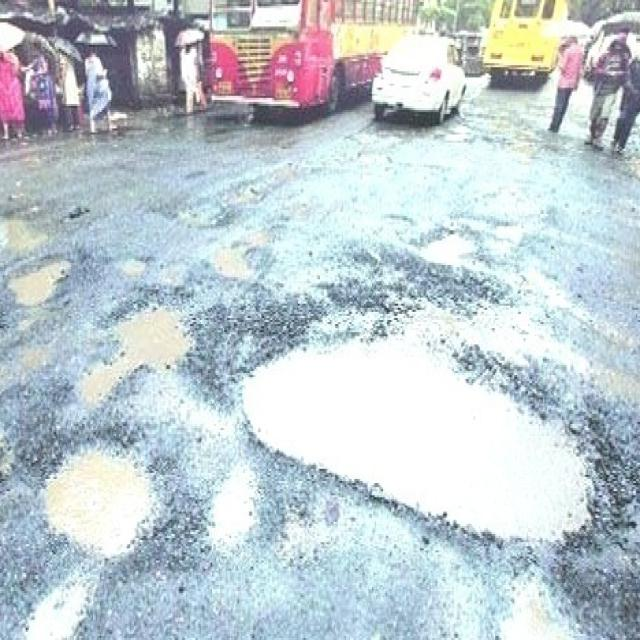road-pothole: (237, 311, 603, 540), (31, 433, 176, 581), (74, 289, 206, 417), (197, 221, 285, 293), (400, 219, 491, 282), (2, 249, 80, 309)
